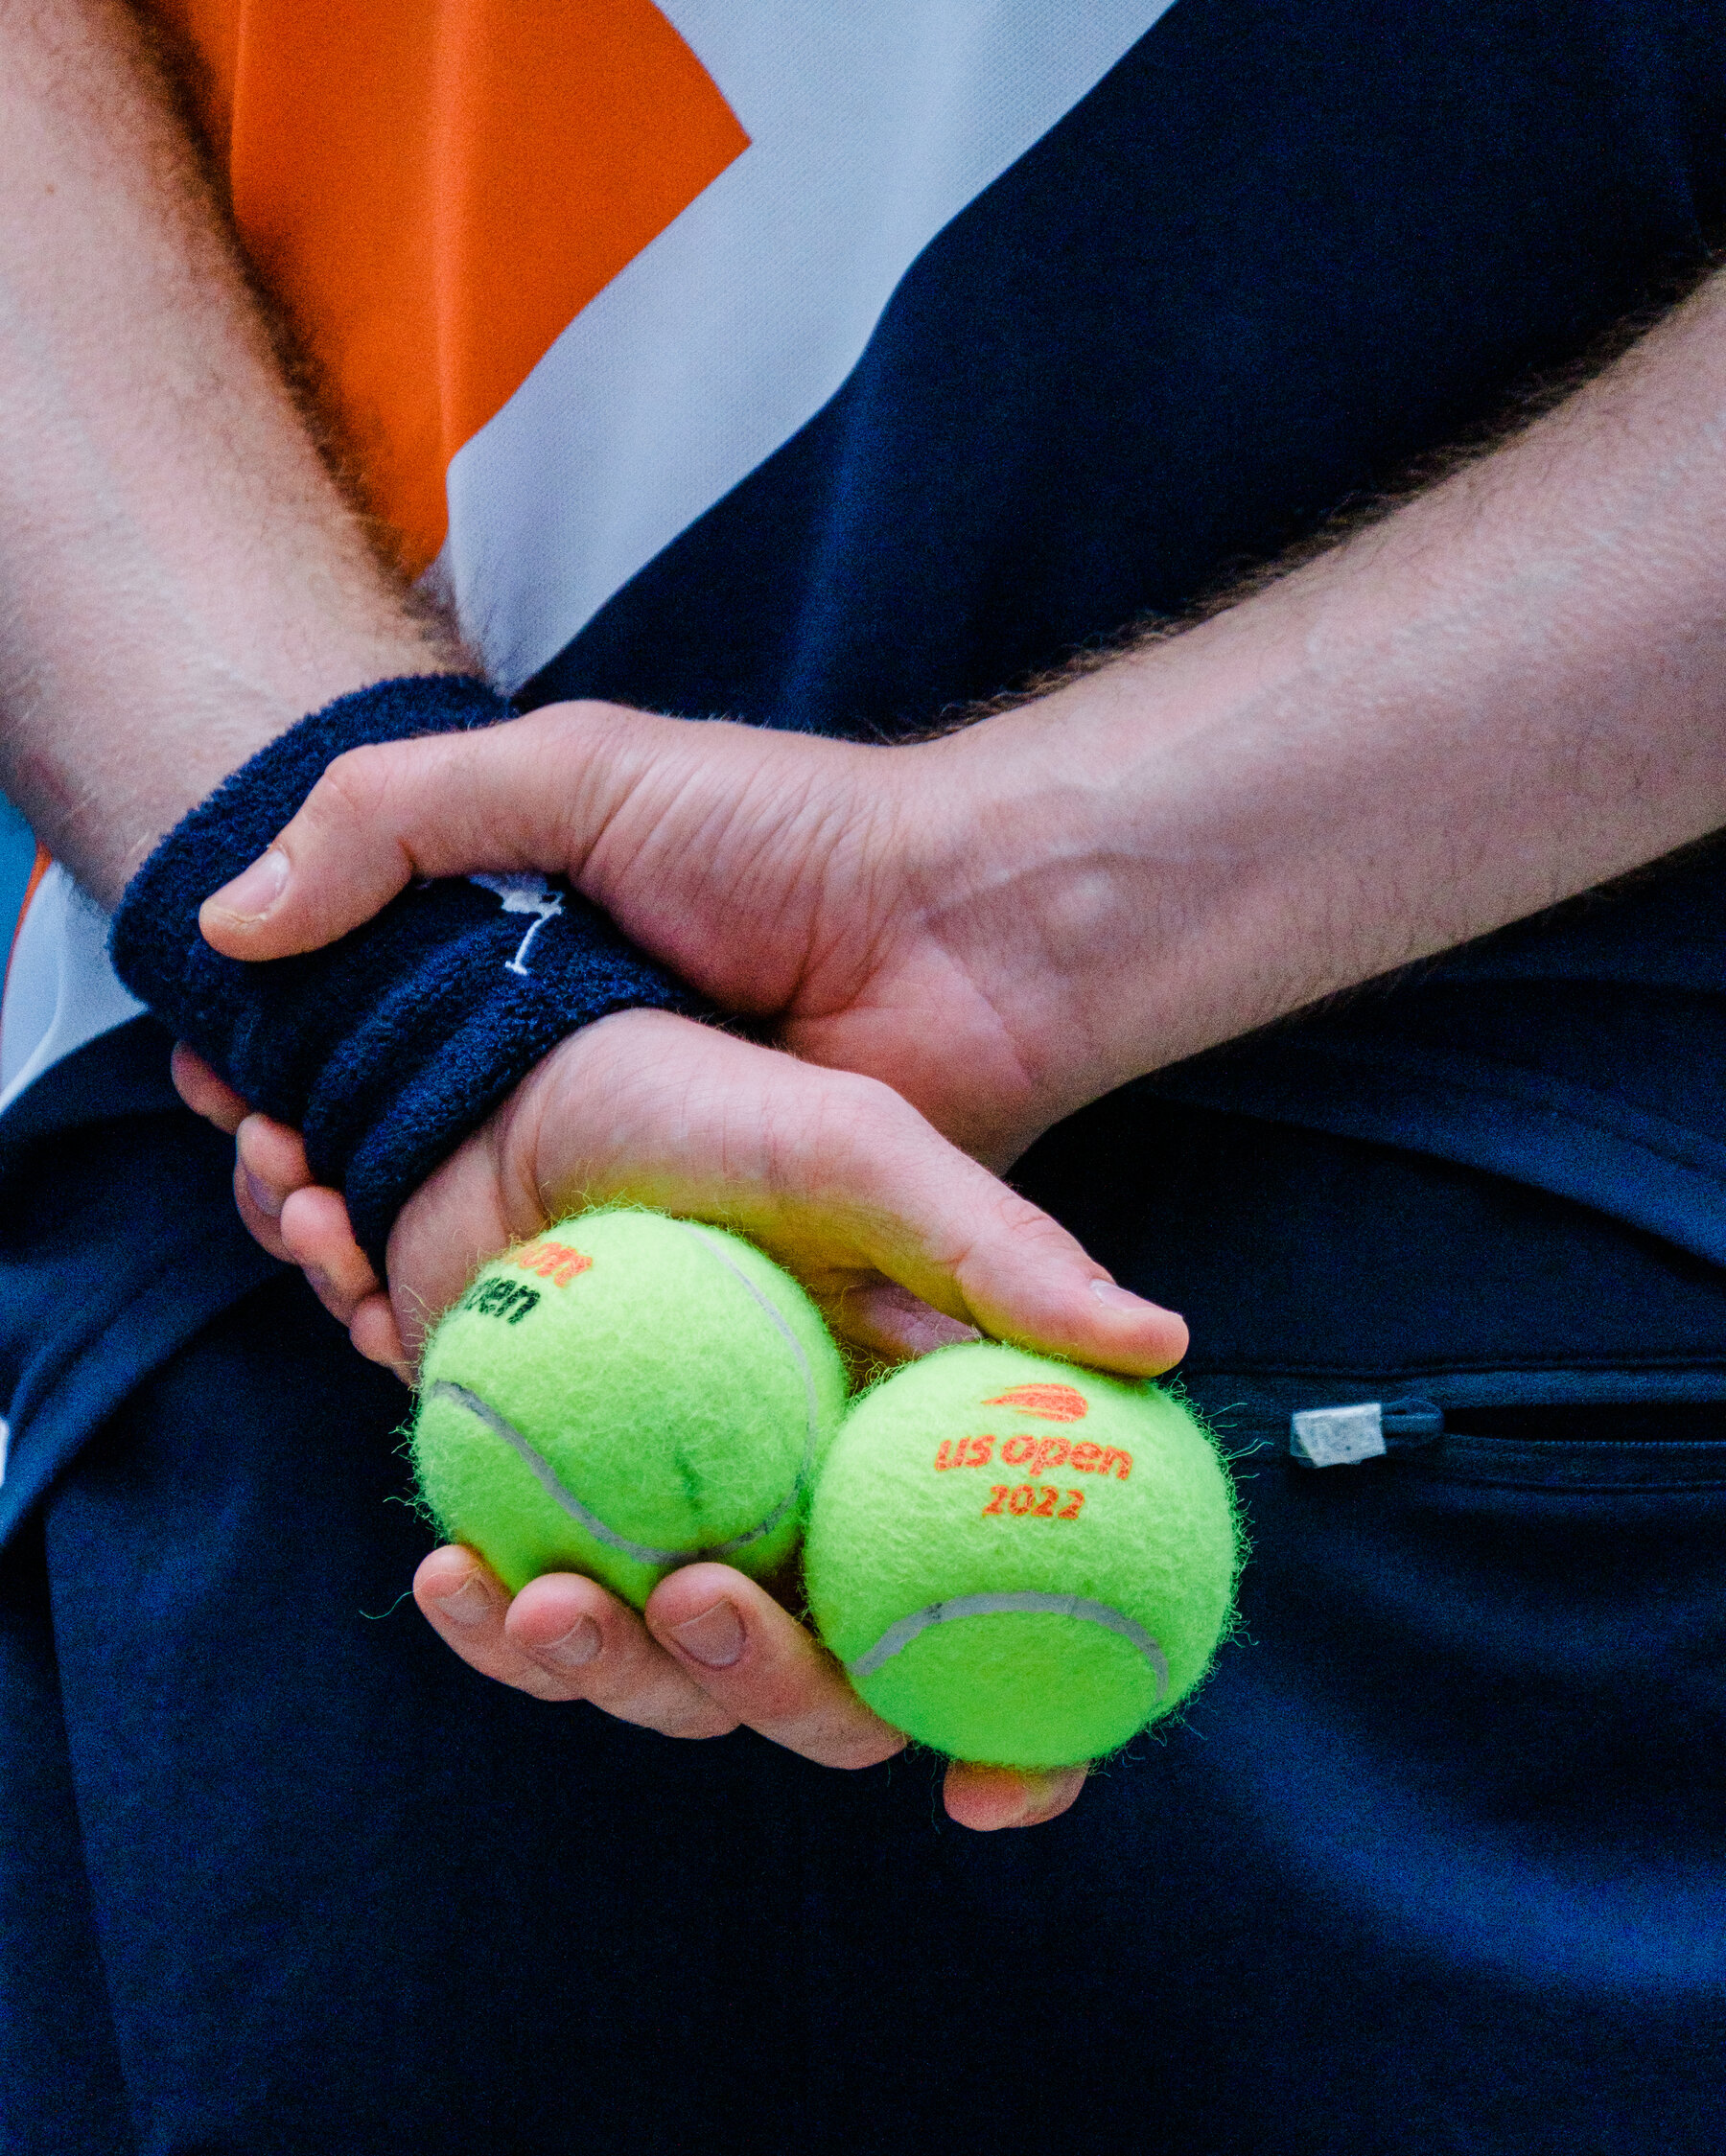ball: (803, 1338, 1242, 1769), (407, 1213, 845, 1621)
